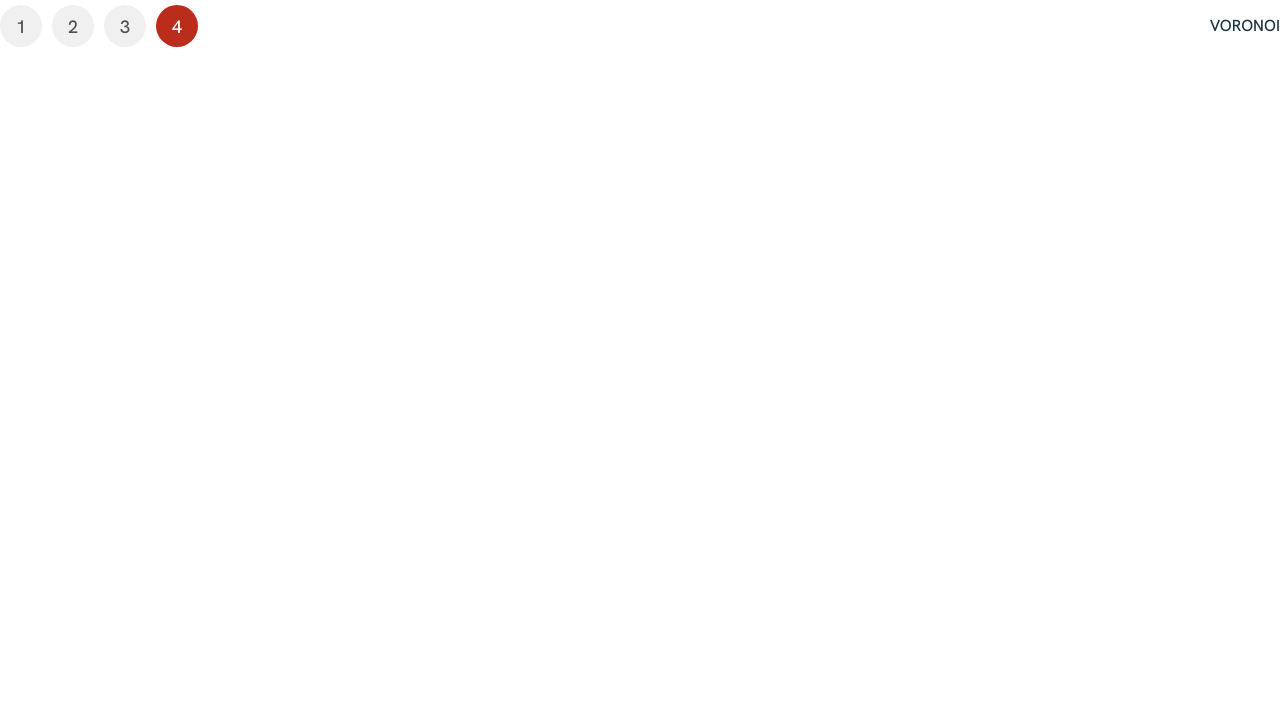
ShapeTypeSelector › updates shape type to hexagon on button 3 click
The image size is (1280, 720).
Click the button with test id "button-3" at (125,26), box [104, 5, 146, 47]
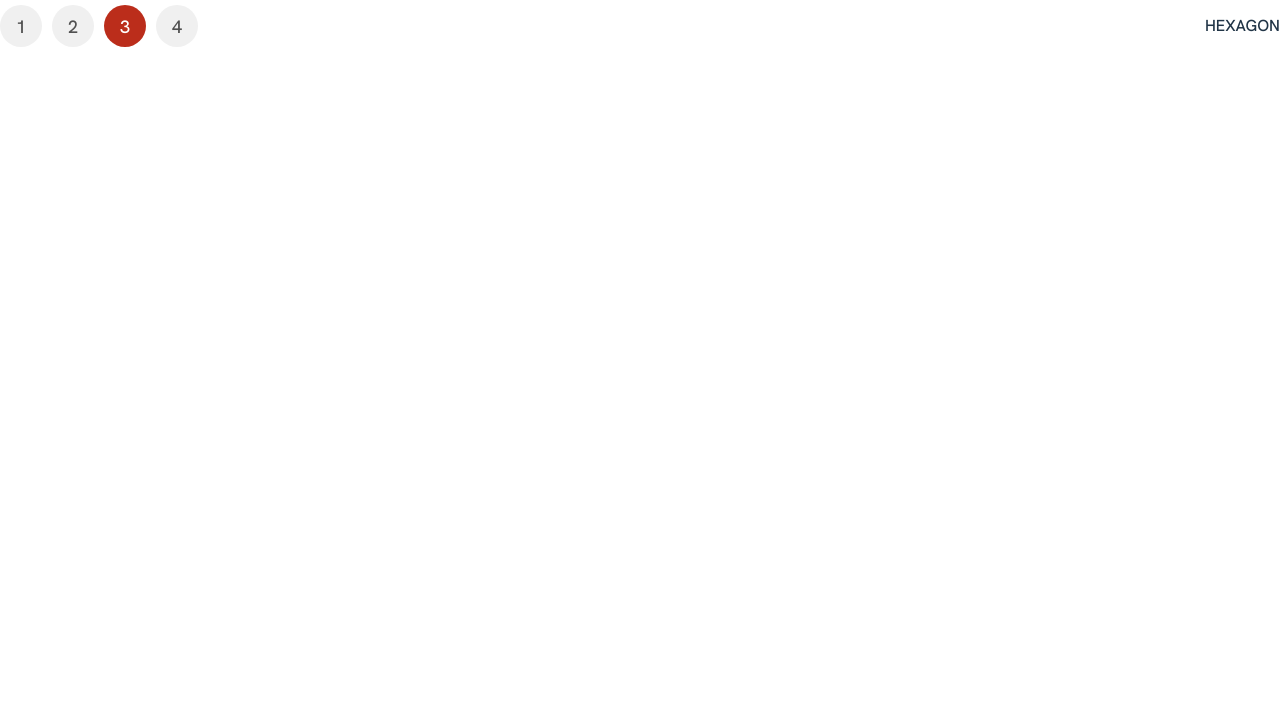
expect the text with class "shape-type" reads "hexagon": met, box [1205, 15, 1279, 36]
